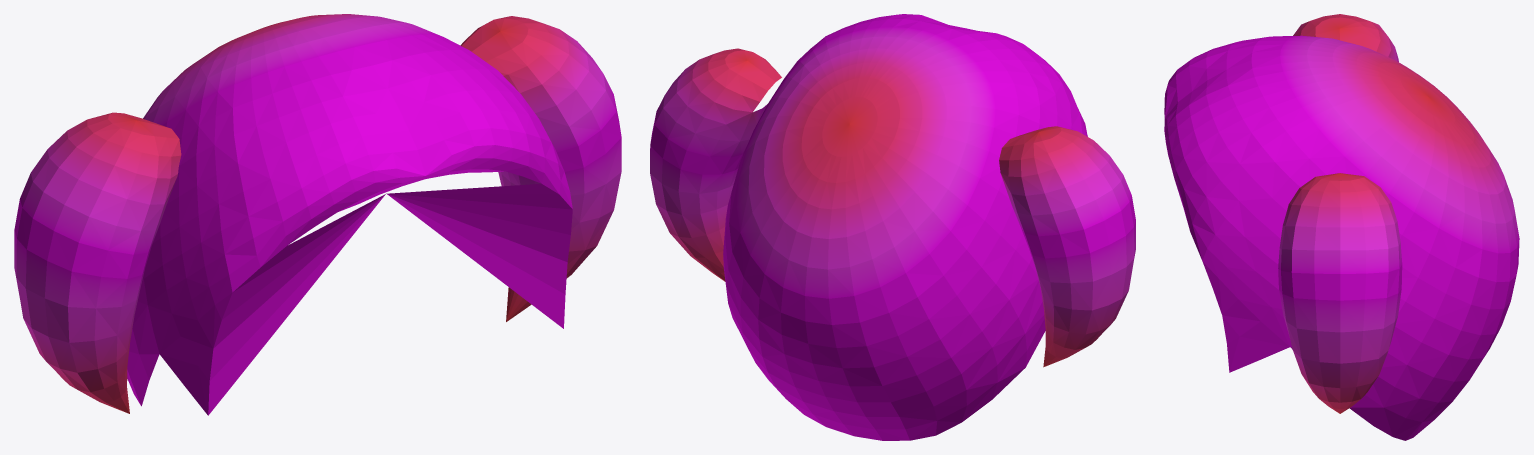
3 views of the same model, side by side, from view 1: azimuth 30°, elevation 25°; view 2: azimuth 150°, elevation 25°; view 3: azimuth 270°, elevation 25° (orthographic). The views are drawn at different scales.
Parts seen in each view (by area): view 1: shape; view 2: shape; view 3: shape.
Boxes of the visible parts, x1,y1,x2,y2 form: shape: (14,14,621,415); shape: (650,14,1135,440); shape: (1164,14,1519,440).
Bounding box in the file's own units: 81.26 × 59.18 × 52.52.
